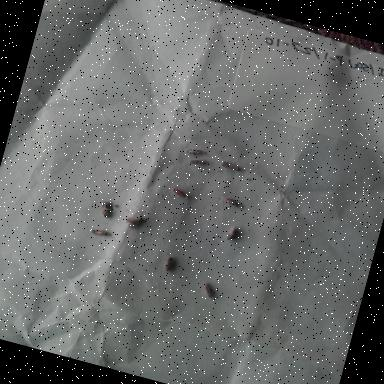pbw: (94, 198, 116, 220), (219, 194, 244, 213), (180, 142, 205, 160), (157, 253, 177, 274), (220, 223, 240, 244), (122, 209, 144, 228), (218, 159, 241, 176), (86, 224, 110, 240), (168, 186, 191, 202), (188, 154, 210, 170), (200, 282, 218, 300)
